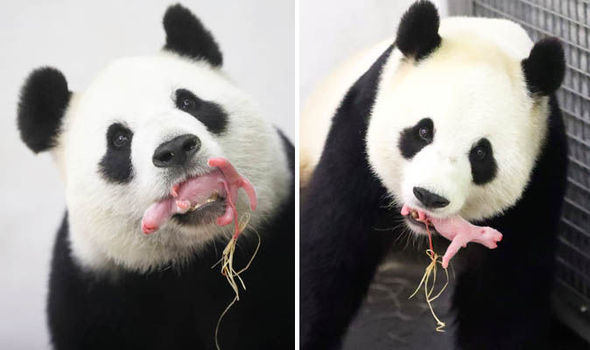panda: (21, 20, 303, 350), (342, 10, 564, 306)
